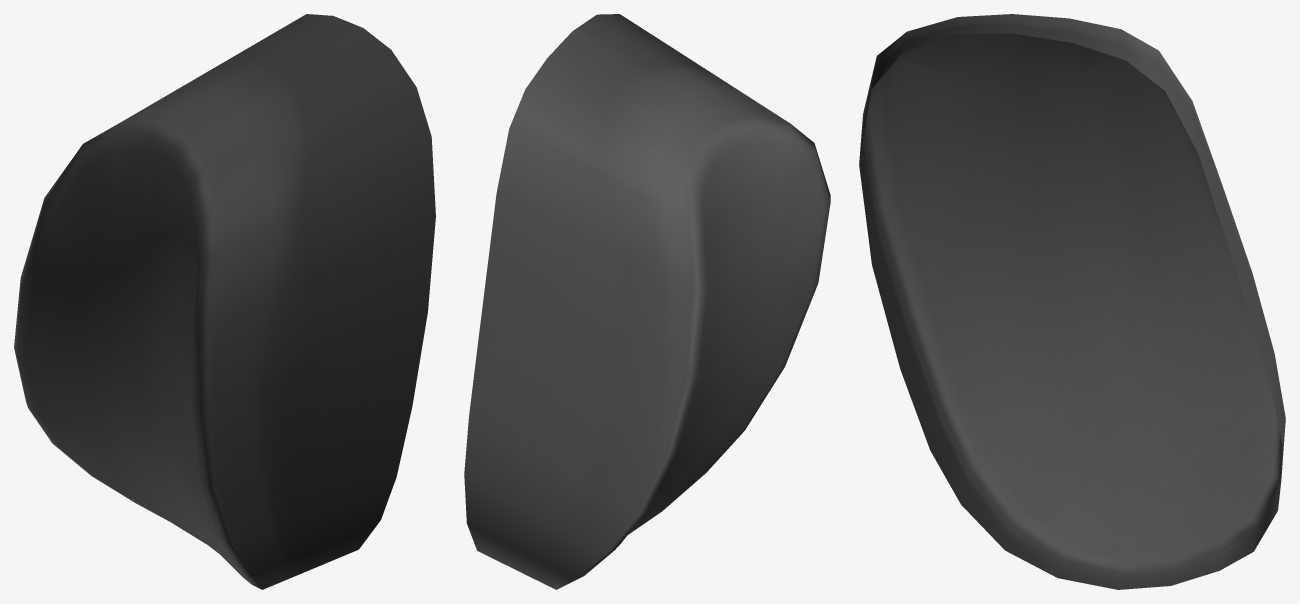
Rendered from R_grip.obj.
3 renders of one model, left to right at view 1: azimuth 30°, elevation 25°; view 2: azimuth 150°, elevation 25°; view 3: azimuth 270°, elevation 25°, orthographic. The views are drawn at different scales.
Parts seen in each view (by area): view 1: R_grip; view 2: R_grip; view 3: R_grip.
Boxes of the visible parts, bbox=[...] form: R_grip: bbox=[14, 14, 435, 589]; R_grip: bbox=[464, 14, 830, 589]; R_grip: bbox=[859, 14, 1285, 589].
Bounding box in the file's own units: 0.0115 × 0.0259 × 0.0175.
Materials: 1 (1 with a texture image).
